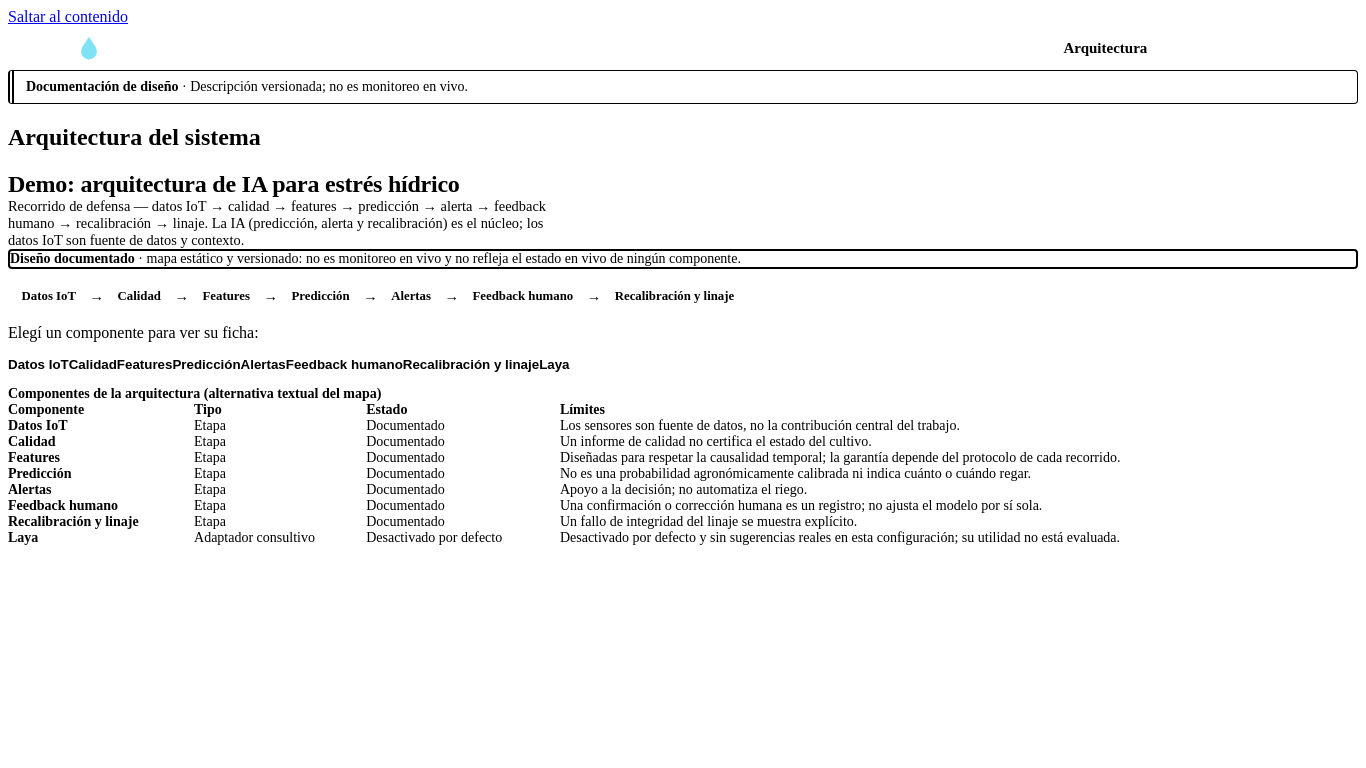
Test: App con backend desconectado › keeps Laya disabled and no live telemetry on the architecture view
Click the button "Laya" at (554, 364), box [539,342,570,386]
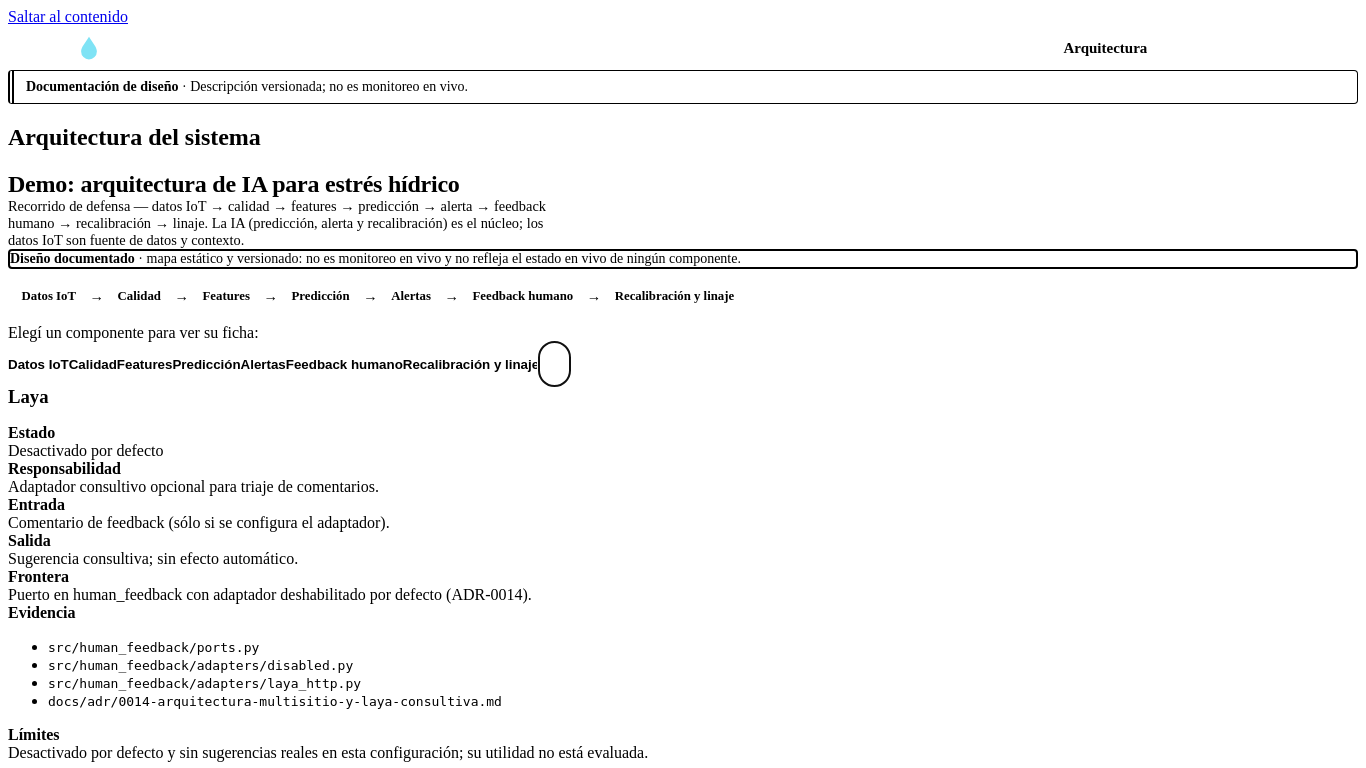
Expected: the text "· Descripción versionada; no es monitoreo en vivo." is shown, [178,79,468,94]
Now the element named "Ficha de Laya" shows "Desactivado por defecto", box [8,442,164,459]
